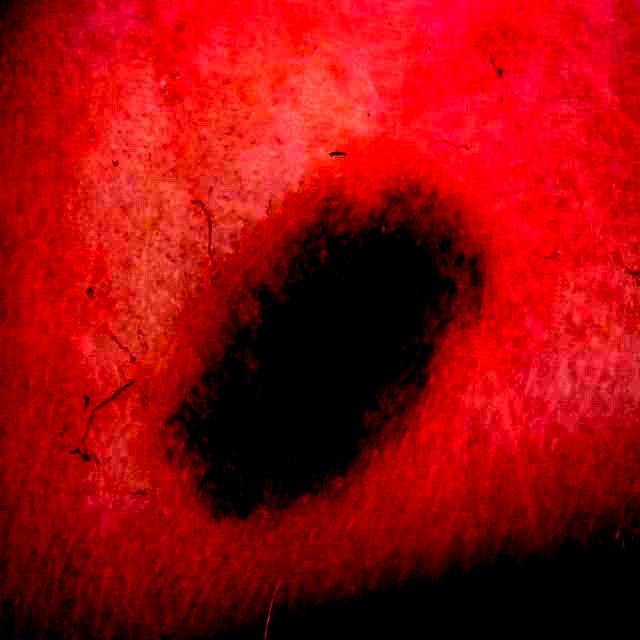NV: (167, 181, 487, 517)
